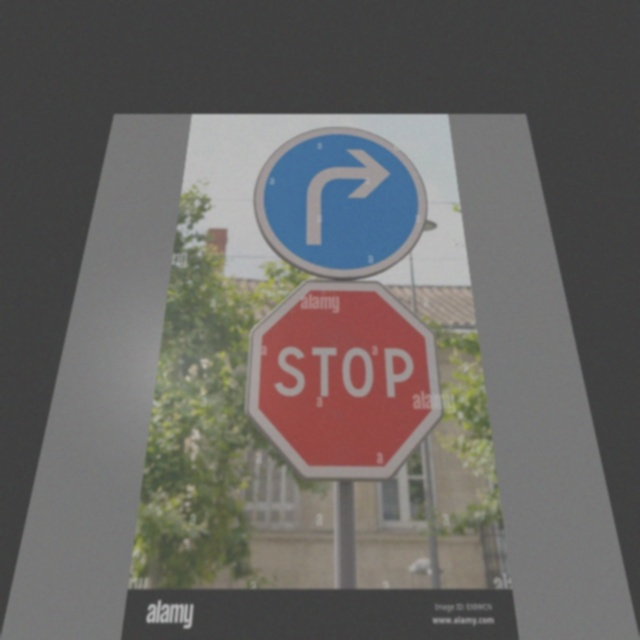Compulsory_Turn_Right_Ahead: (249, 128, 438, 276)
